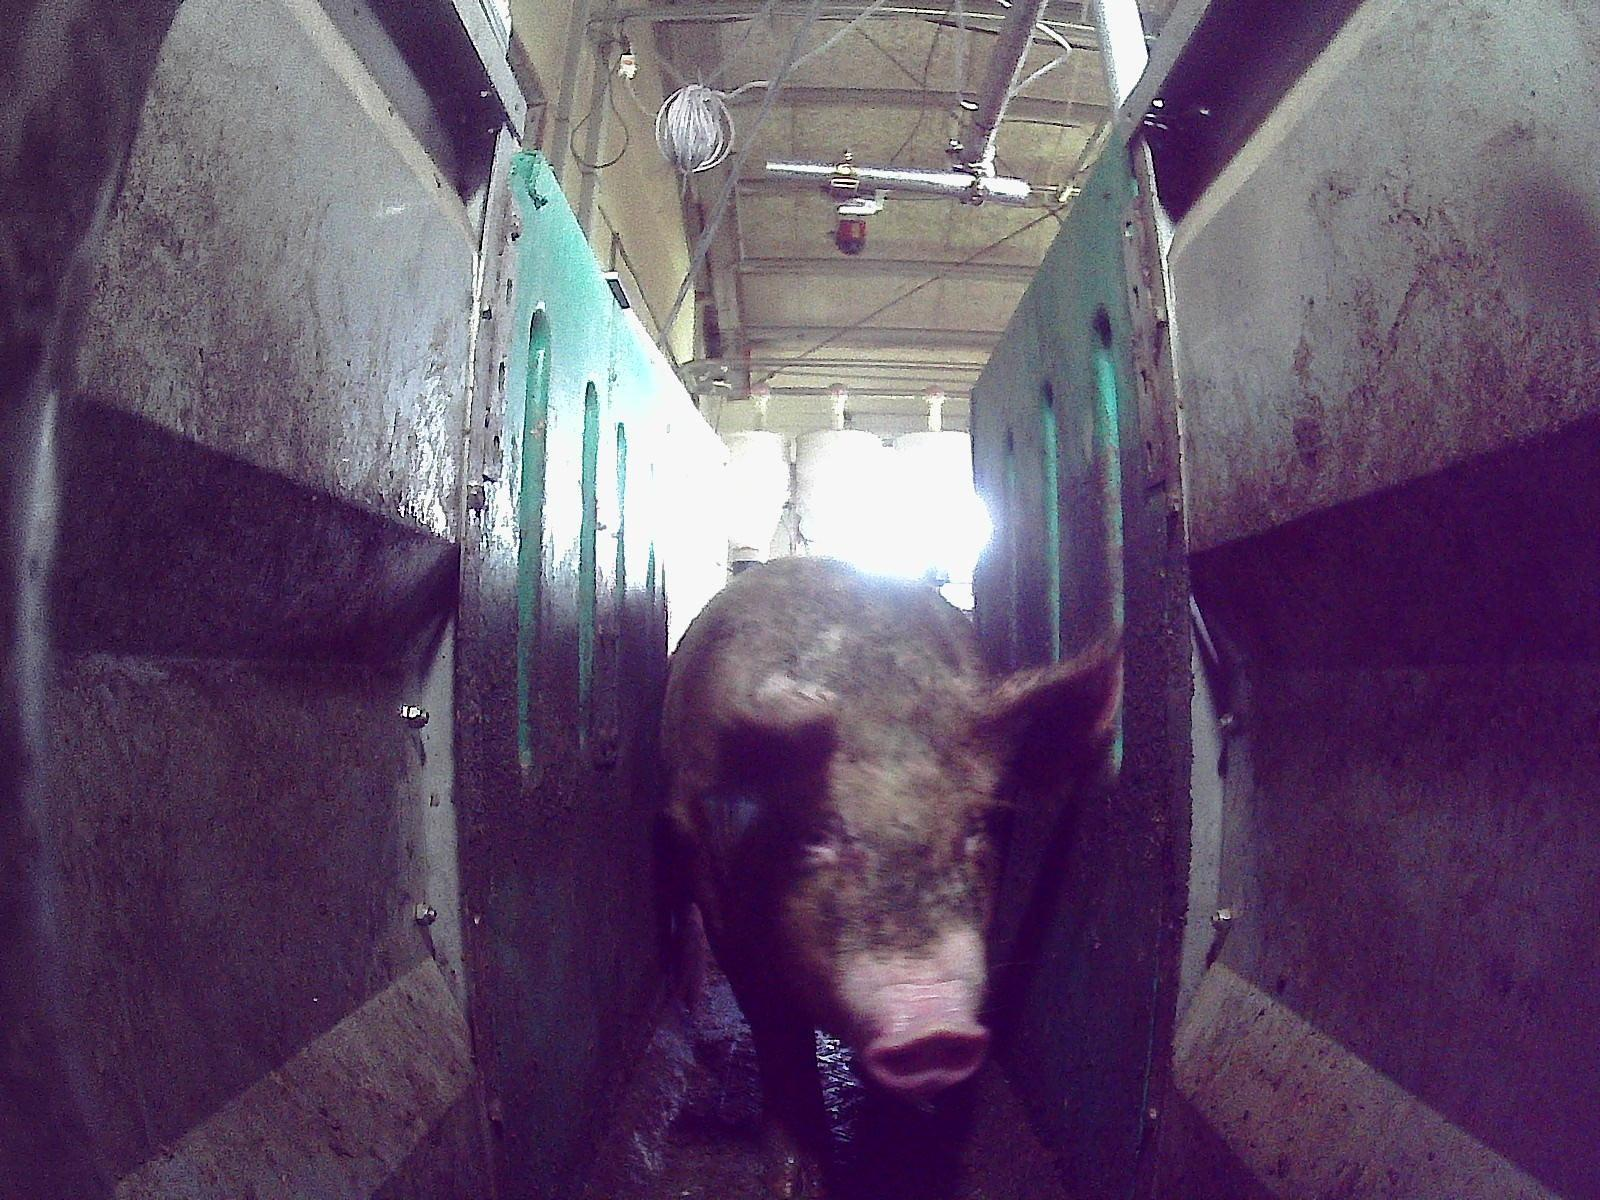Face: (746, 720, 1009, 1086)
